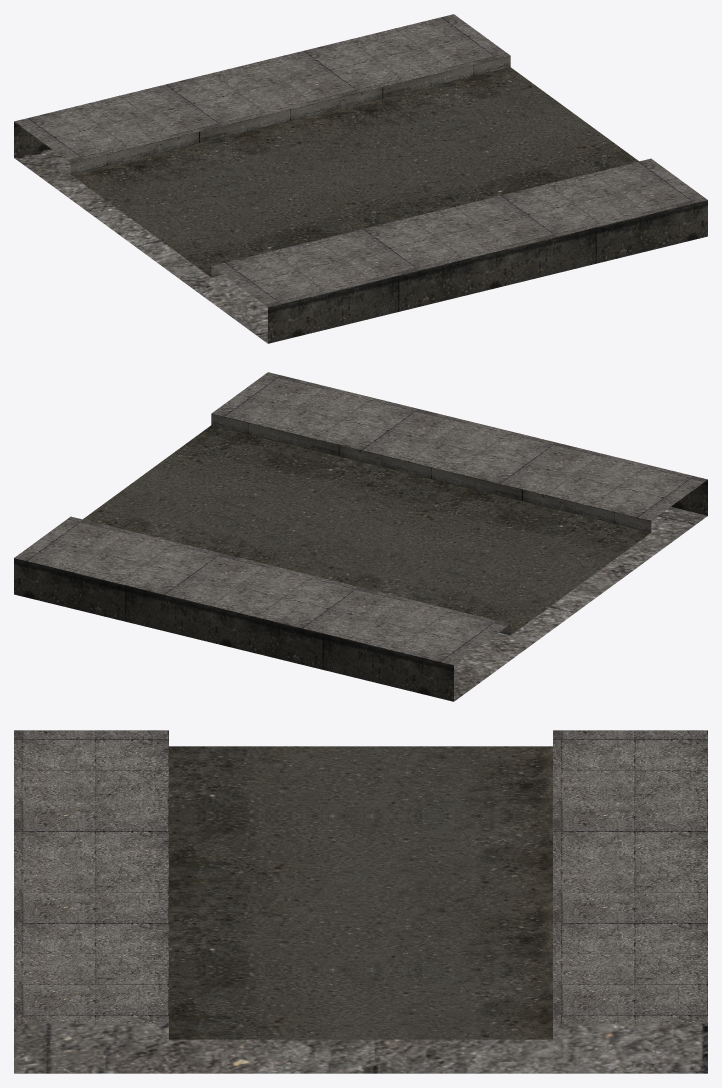
File: RoadMain.fbx
3 renders of one model, top to bottom at view 1: azimuth 30°, elevation 25°; view 2: azimuth 150°, elevation 25°; view 3: azimuth 270°, elevation 25°, orthographic. The views are drawn at different scales.
Parts seen in each view (by area): view 1: Road; view 2: Road; view 3: Road.
Part boxes in pixels (x1,y1,x2,y2): Road: [14, 14, 707, 343]; Road: [14, 372, 707, 701]; Road: [14, 730, 707, 1073].
Bounding box in the file's own units: 475 × 37.59 × 475.
Materials: 2 (2 with a texture image).
